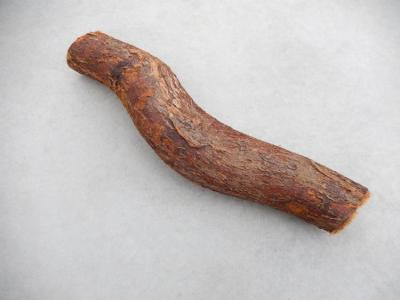Root: (67, 31, 369, 233)
